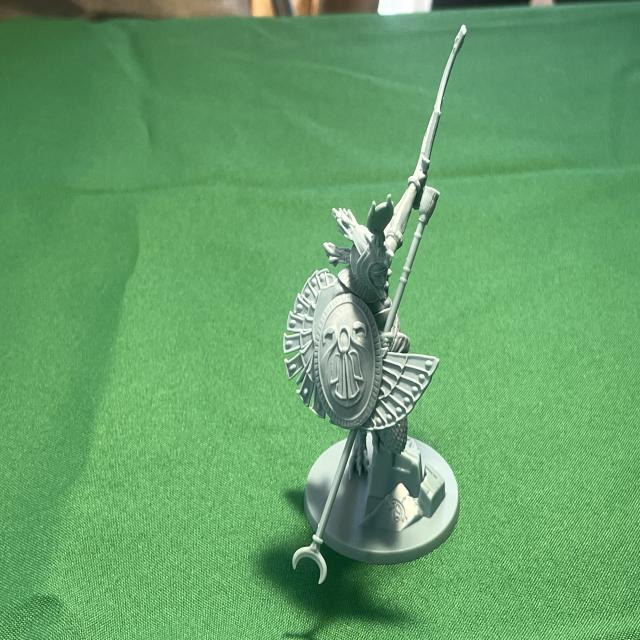isis: (266, 8, 483, 612)
